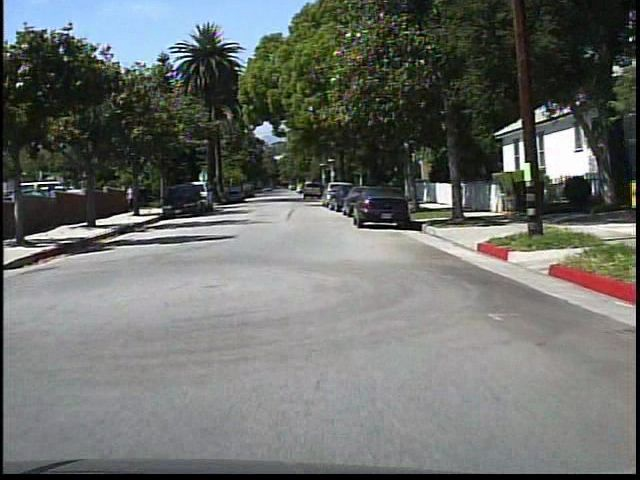person: (126, 181, 141, 215)
